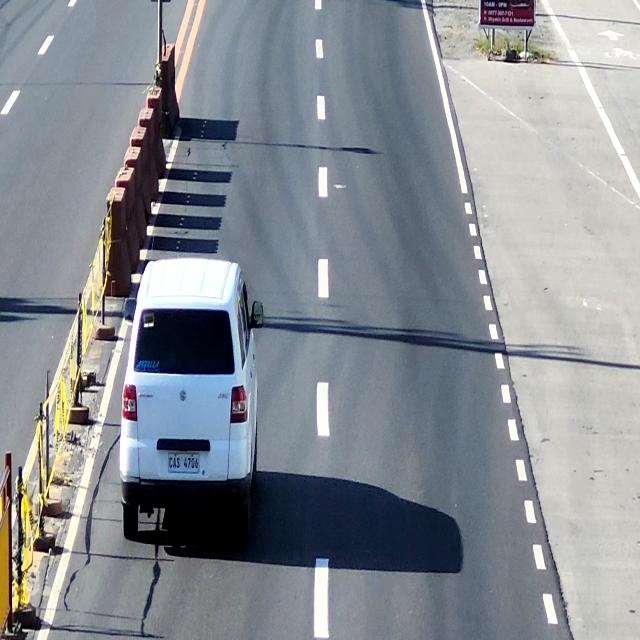Car: (123, 256, 263, 541)
License-Plate: (163, 446, 202, 476)
